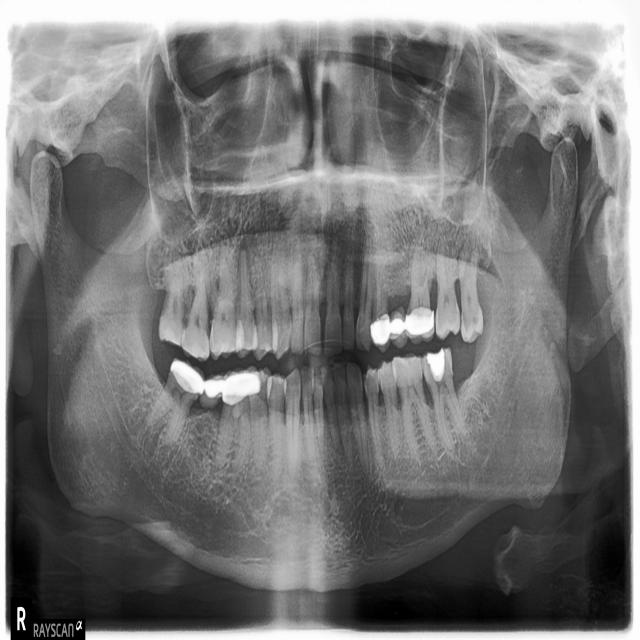mandibula: (30, 143, 577, 589)
